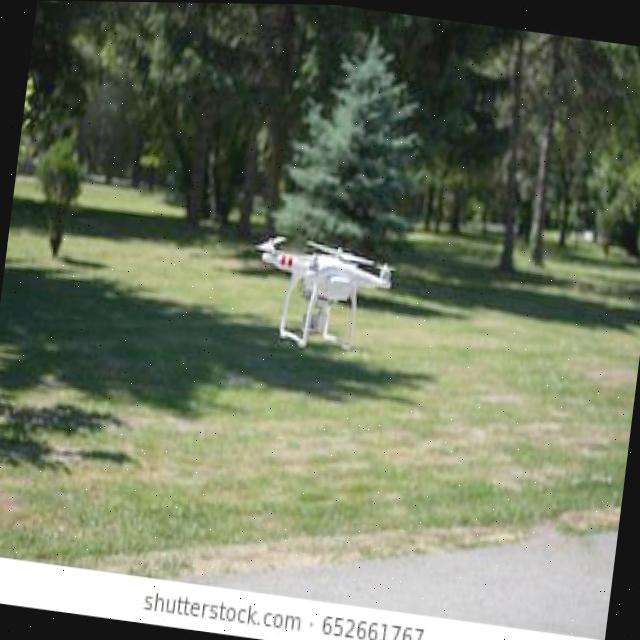drone: (0, 292, 636, 640)
